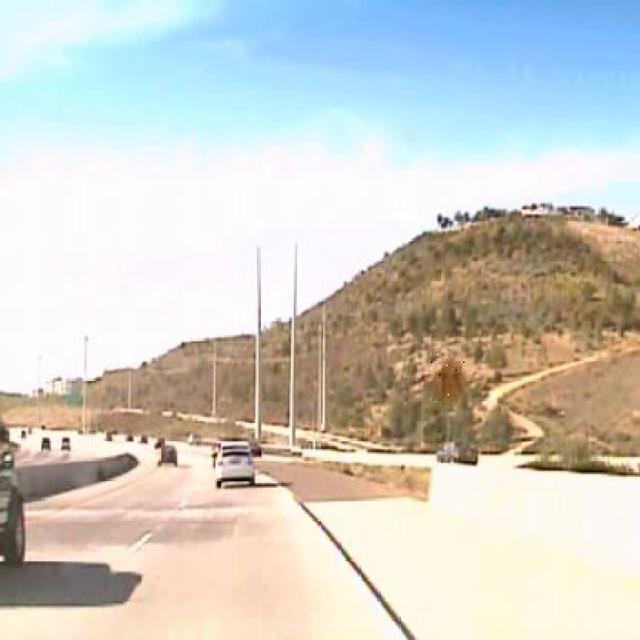addedLane: (429, 355, 468, 408)
